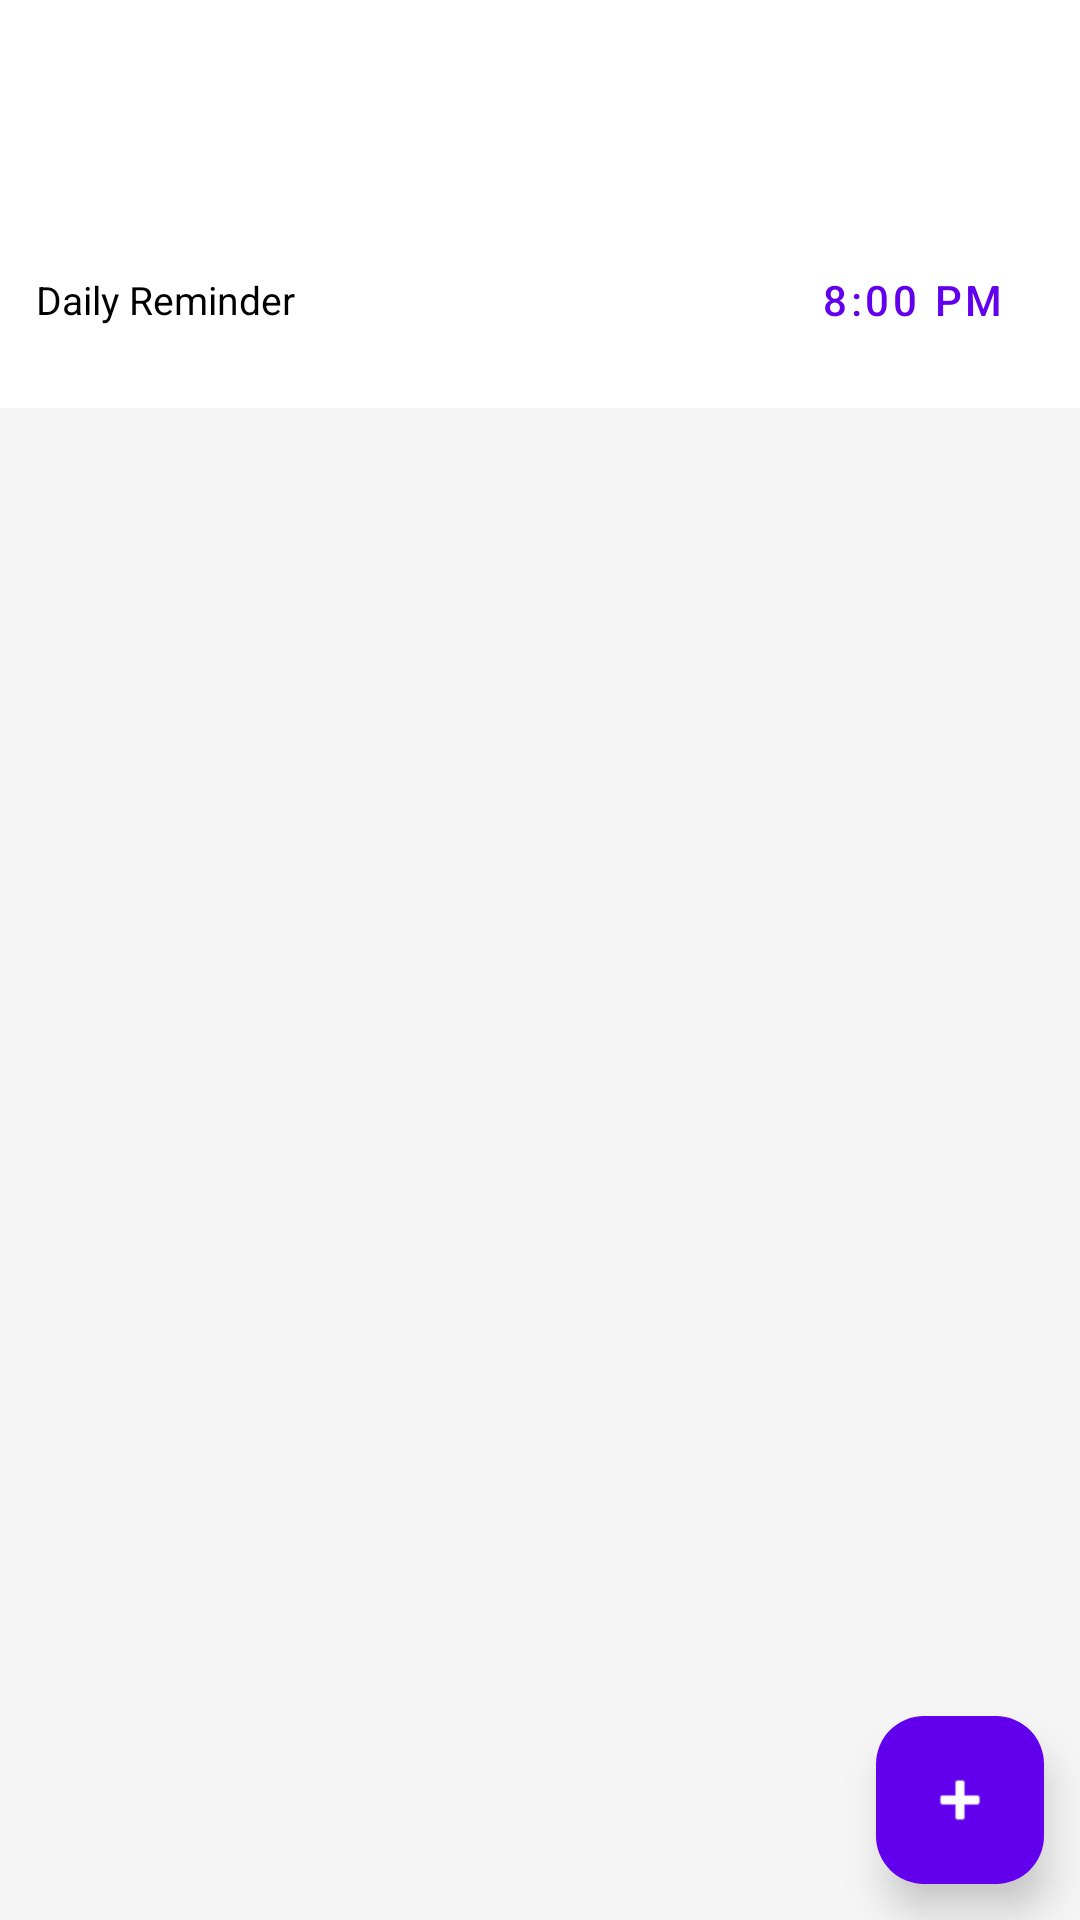

Where to tap for icons on this 1080×1920 app screen, as [x,y]:
add: [960,1800]
